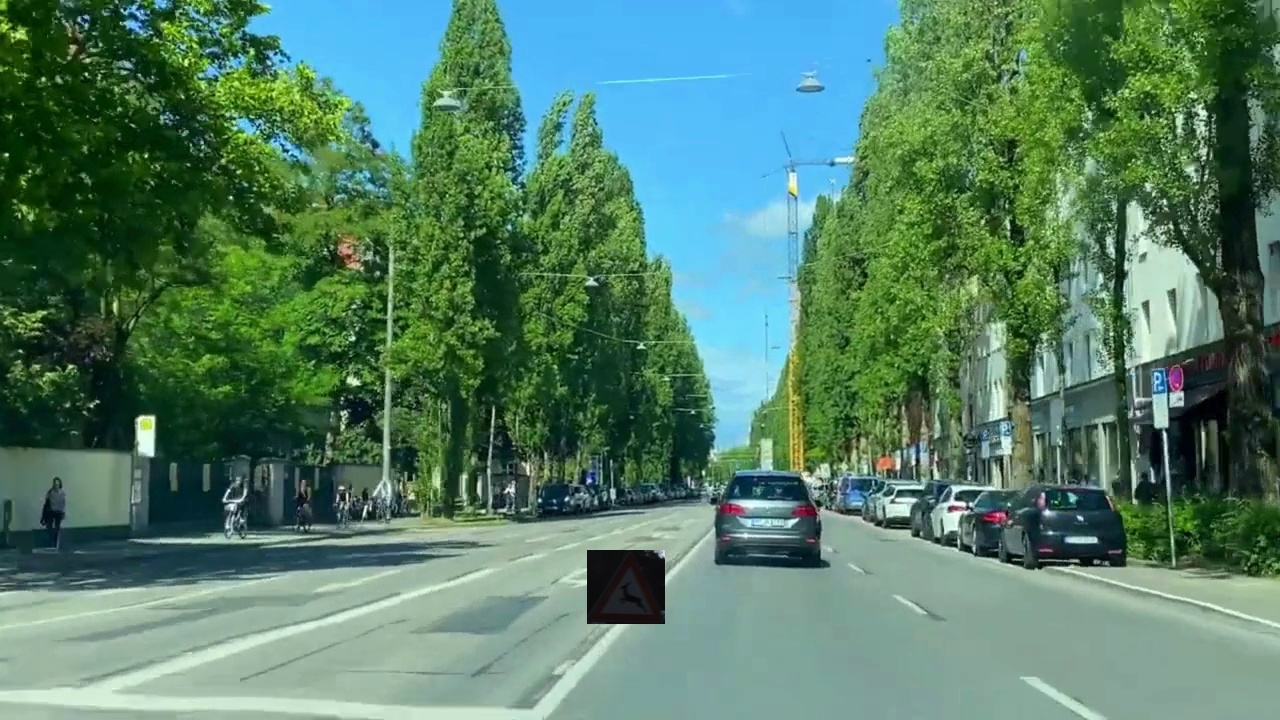Wild animals: (587, 550, 665, 624)
